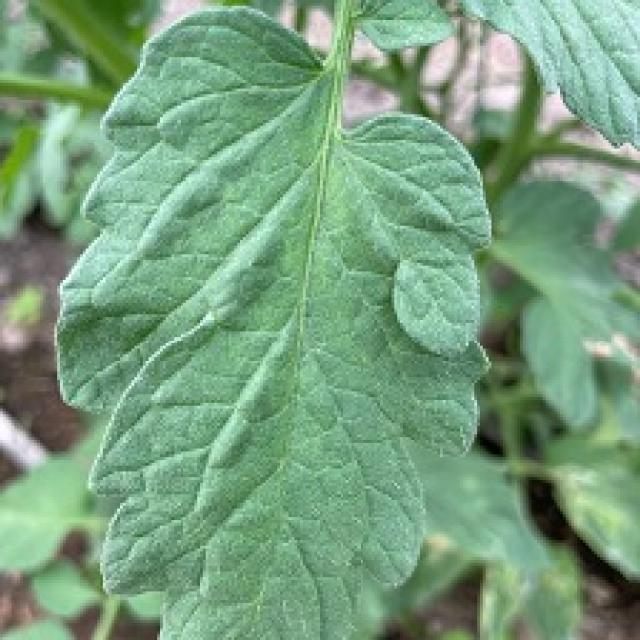Healthy: (63, 3, 489, 637)
